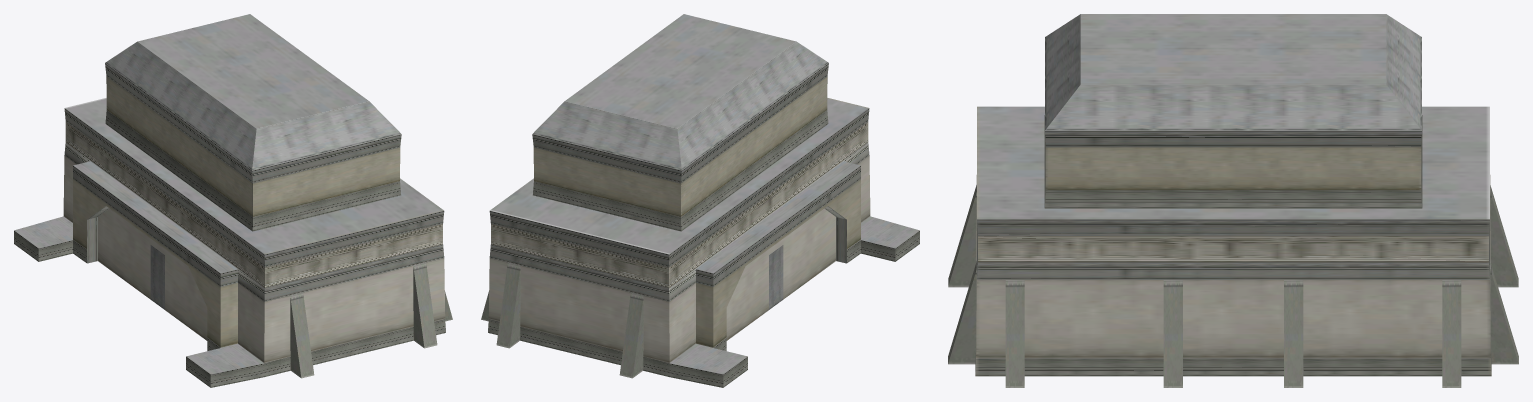
The model's file is thm_corl_imprv_historic_24x16_s01_l3.fbx.
3 renders of one model, left to right at view 1: azimuth 30°, elevation 25°; view 2: azimuth 150°, elevation 25°; view 3: azimuth 270°, elevation 25°, orthographic. The views are drawn at different scales.
Visible parts, largest first — view 1: mesh_node; view 2: mesh_node; view 3: mesh_node.
Boxes of the visible parts, <box> form: mesh_node: <box>14,14,452,387</box>; mesh_node: <box>481,14,919,387</box>; mesh_node: <box>948,14,1518,387</box>.
Bounding box in the file's own units: 15.54 × 12.4 × 23.81.
